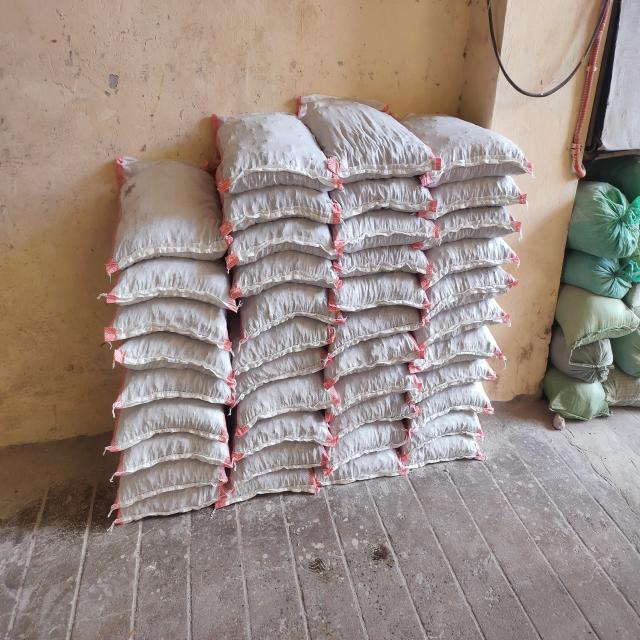Gravel: (114, 164, 227, 259), (312, 95, 426, 176), (221, 116, 318, 196), (433, 125, 517, 182), (114, 268, 229, 306), (231, 190, 340, 228), (336, 177, 433, 218), (229, 221, 337, 255), (236, 255, 344, 288), (116, 312, 231, 342), (116, 344, 231, 374), (115, 374, 230, 404), (112, 405, 227, 435), (113, 434, 228, 464), (111, 462, 226, 492), (109, 486, 224, 516), (434, 179, 529, 212), (335, 218, 442, 247), (235, 354, 335, 385), (235, 382, 335, 413), (238, 414, 338, 445), (237, 439, 337, 470), (234, 327, 337, 357), (429, 243, 519, 276), (234, 297, 337, 325), (437, 210, 519, 244), (224, 467, 319, 496), (412, 366, 499, 396), (336, 312, 422, 342), (428, 305, 514, 335), (416, 335, 502, 365), (414, 385, 500, 415), (429, 274, 524, 300), (333, 341, 418, 370), (335, 372, 420, 401), (331, 397, 416, 426), (328, 427, 413, 456), (328, 453, 413, 482), (338, 249, 429, 276), (334, 283, 429, 308), (408, 410, 485, 438), (407, 440, 484, 468)
